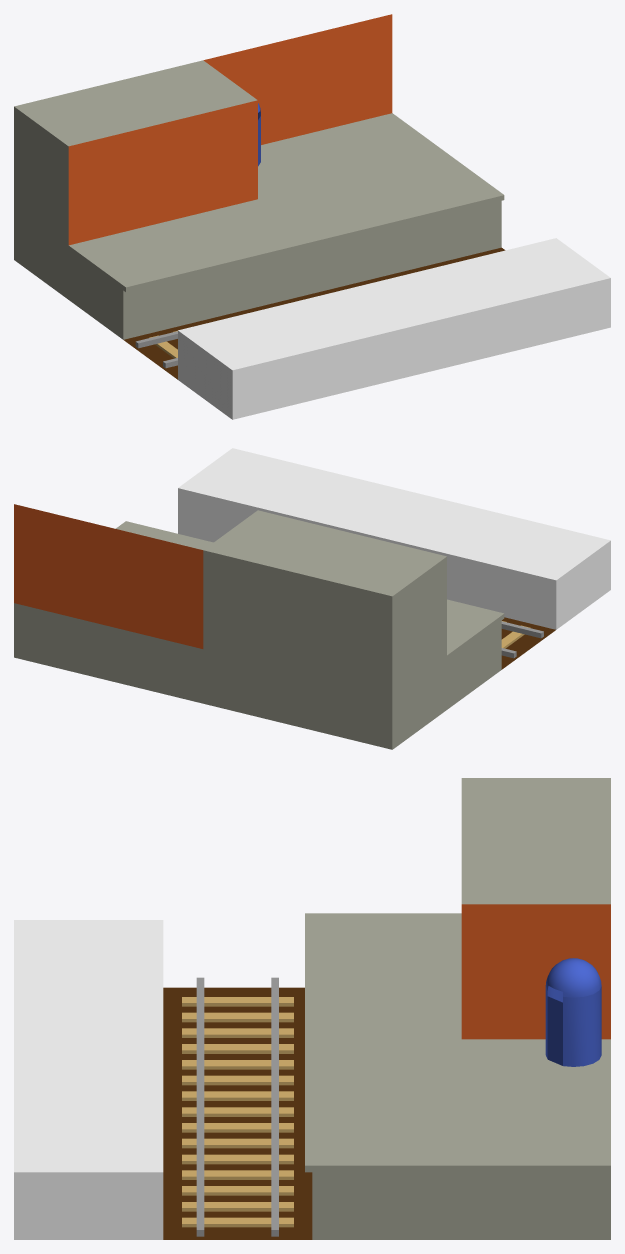
3 renders of one model, top to bottom at view 1: azimuth 30°, elevation 25°; view 2: azimuth 150°, elevation 25°; view 3: azimuth 270°, elevation 25°, orthographic. The views are drawn at different scales.
Visible parts, largest first — view 1: Cube.001_22, Platform1_19, ground_0; view 2: Cube.001_22, Platform1_19, ground_0; view 3: Cube.001_22, Platform1_19, ground_0, Bin_23, rail.001_18, rail_17, wooden_plank.002_3, wooden_plank.006_7, wooden_plank.008_9, wooden_plank.012_13, wooden_plank.013_14, wooden_plank_1 (+9 smaller).
Boxes of the visible parts, x1,y1,x2,y2 form: Cube.001_22: [14, 14, 504, 339]; Platform1_19: [178, 238, 610, 419]; ground_0: [124, 247, 505, 379]; Cube.001_22: [14, 504, 504, 749]; Platform1_19: [178, 448, 610, 629]; ground_0: [501, 617, 555, 669]; Cube.001_22: [305, 778, 610, 1239]; Platform1_19: [14, 920, 163, 1239]; ground_0: [163, 987, 312, 1239]; Bin_23: [545, 958, 601, 1066]; rail.001_18: [196, 977, 204, 1236]; rail_17: [271, 977, 278, 1236]; wooden_plank.002_3: [182, 1075, 293, 1085]; wooden_plank.006_7: [182, 1012, 293, 1022]; wooden_plank.008_9: [182, 1217, 293, 1227]; wooden_plank.012_13: [182, 1154, 293, 1164]; wooden_plank.013_14: [182, 1138, 293, 1148]; wooden_plank_1: [182, 1107, 293, 1116].
Bounding box in the file's own units: 16 × 6.2 × 16.
